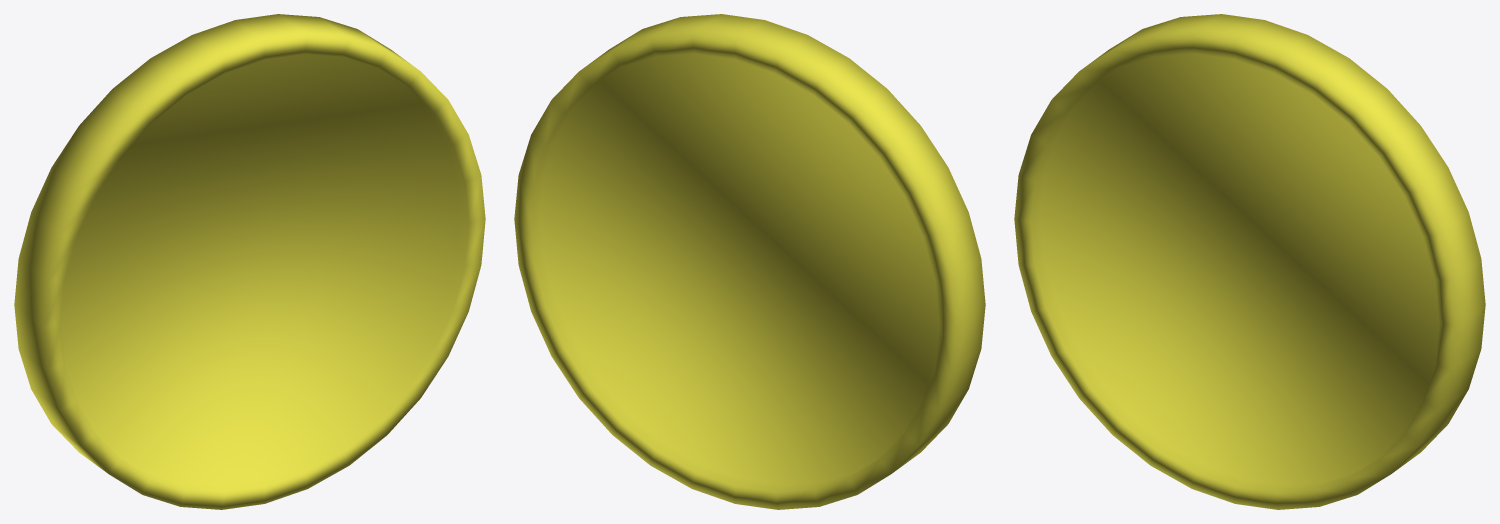
The model's file is Coin.glb.
3 views of the same model, side by side, from view 1: azimuth 30°, elevation 25°; view 2: azimuth 150°, elevation 25°; view 3: azimuth 330°, elevation 25° (orthographic).
Visible parts, largest first — view 1: Coin; view 2: Coin; view 3: Coin.
Part boxes in pixels (x1=…): Coin: x1=14, y1=14, x2=485, y2=509; Coin: x1=514, y1=14, x2=985, y2=509; Coin: x1=1014, y1=14, x2=1485, y2=509.
Size of the model in its own units: 0.2124 by 0.2124 by 0.0249.
